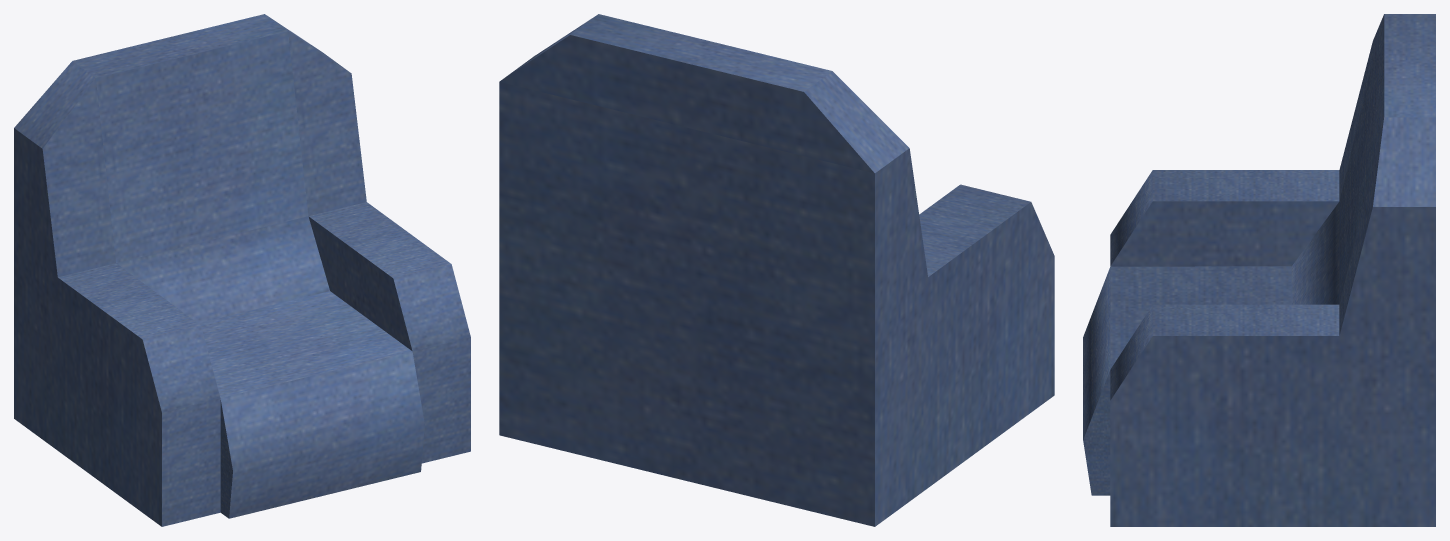
File: Recliner.fbx
3 renders of one model, left to right at view 1: azimuth 30°, elevation 25°; view 2: azimuth 150°, elevation 25°; view 3: azimuth 270°, elevation 25°, orthographic. The views are drawn at different scales.
Visible parts, largest first — view 1: Recliner; view 2: Recliner; view 3: Recliner.
Part boxes in pixels (left/top/right/bottom): Recliner: left=14, top=14, right=470, bottom=526; Recliner: left=499, top=14, right=1054, bottom=526; Recliner: left=1083, top=14, right=1435, bottom=526.
Size of the model in its own units: 121 by 128 by 109.
